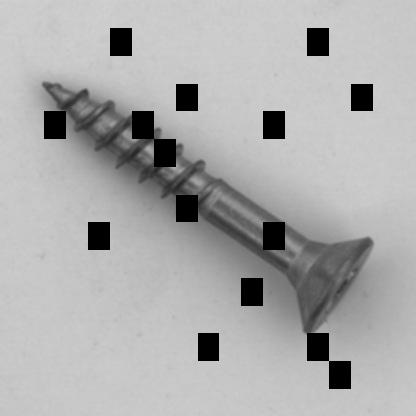metal: (41, 80, 374, 333)
